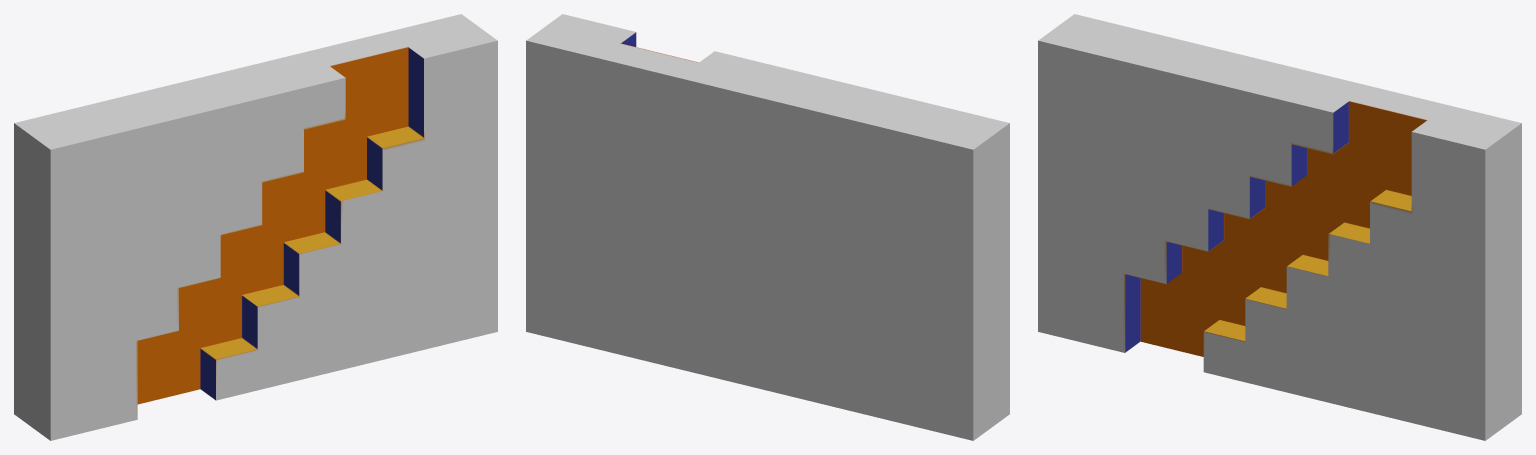
Rendered from GEO_Stock_7.glb.
3 renders of one model, left to right at view 1: azimuth 30°, elevation 25°; view 2: azimuth 150°, elevation 25°; view 3: azimuth 330°, elevation 25°, orthographic.
Visible parts, largest first — view 1: Box; view 2: Box; view 3: Box.
Part boxes in pixels (<box>): Box: <box>14,14,497,440</box>; Box: <box>526,14,1009,440</box>; Box: <box>1038,14,1521,440</box>.
Bounding box in the file's own units: 1.61 × 1 × 0.2268.
